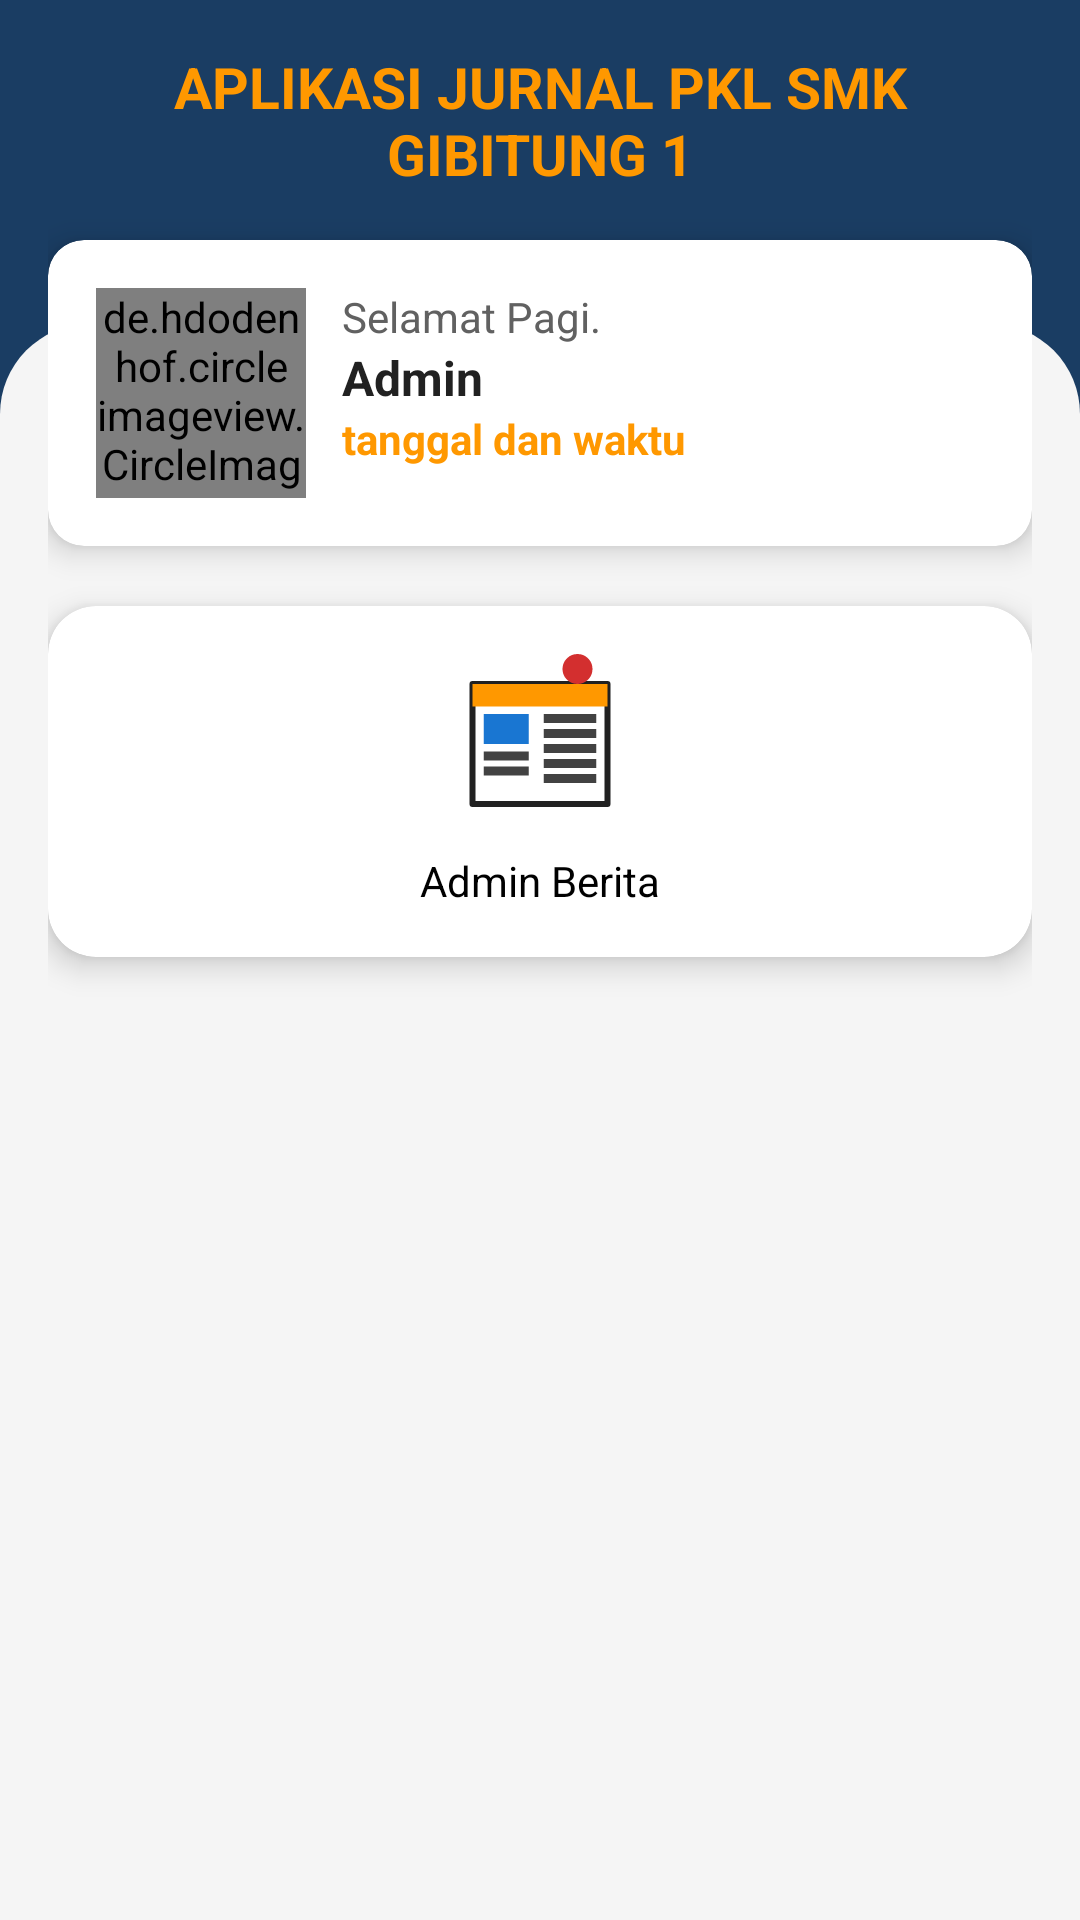

Point at icon controls on the screen. Image size 1080px x 1920px, points as point (x, y).
berita fitur: point (540, 730)
